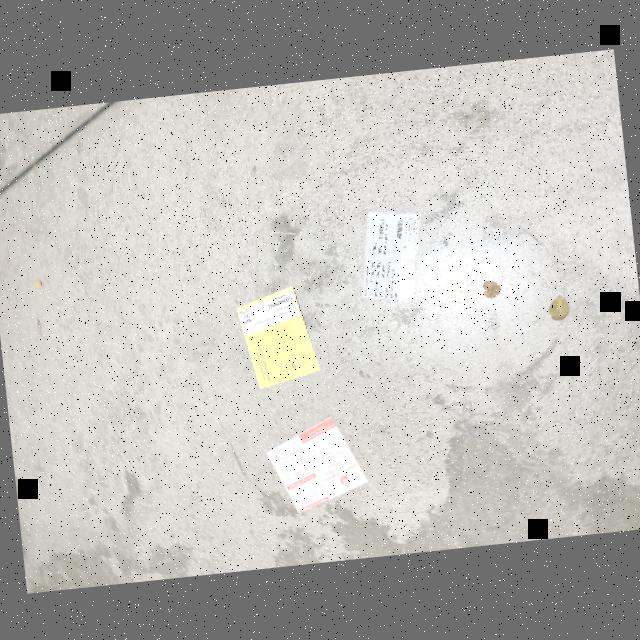scrap_paper: (256, 409, 368, 520), (228, 277, 329, 393), (345, 192, 428, 322)
